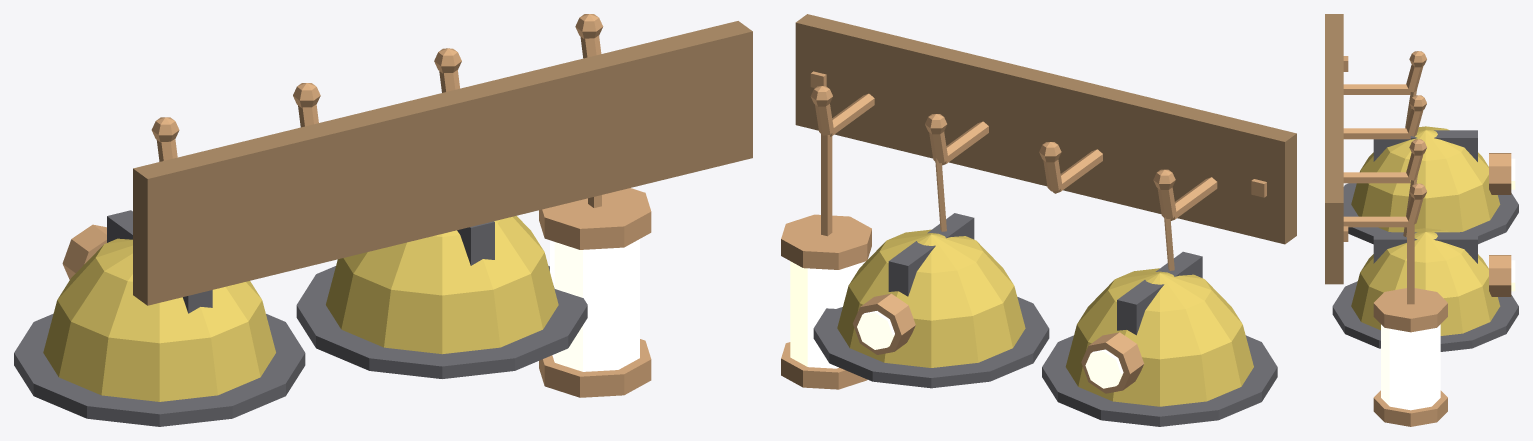
File: coat_rack.glb
The picture shows the model from 3 angles, left to right: view 1: azimuth 30°, elevation 25°; view 2: azimuth 150°, elevation 25°; view 3: azimuth 270°, elevation 25°; orthographic projection. The views are drawn at different scales.
Parts seen in each view (by area): view 1: CoatRack; view 2: CoatRack; view 3: CoatRack.
Boxes of the visible parts, bbox=[...] form: CoatRack: bbox=[14, 14, 752, 426]; CoatRack: bbox=[781, 14, 1296, 426]; CoatRack: bbox=[1325, 14, 1518, 426].
Bounding box in the file's own units: 0.635 × 0.35 × 0.26.
